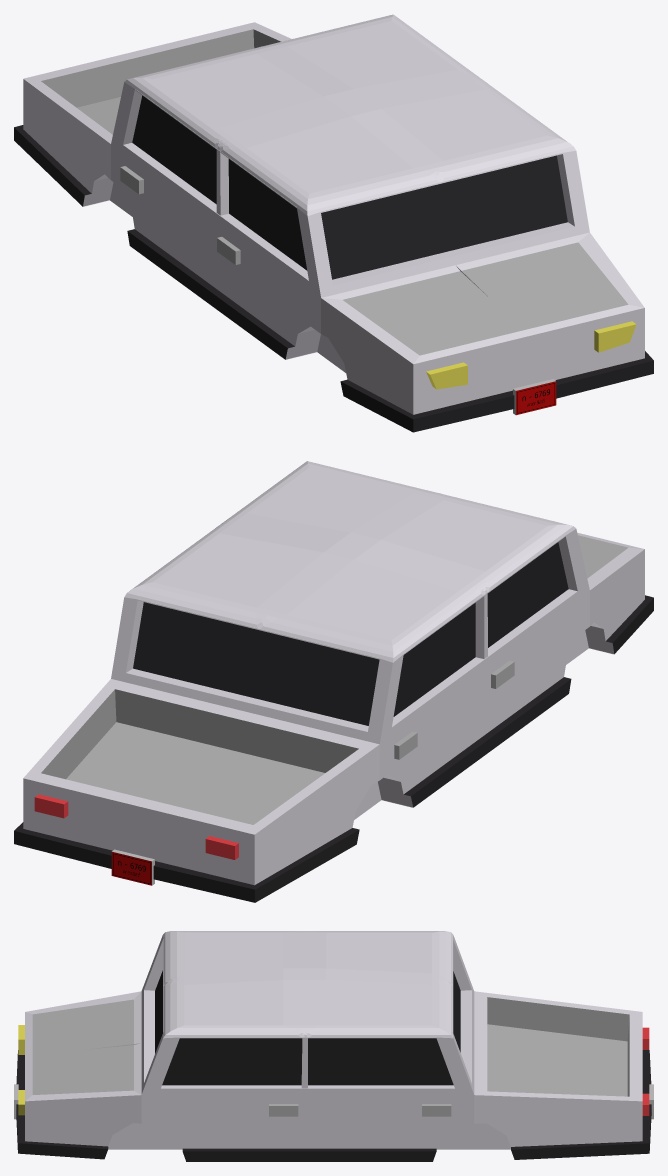
The model's file is Car.glb.
The picture shows the model from 3 angles, top to bottom: view 1: azimuth 30°, elevation 25°; view 2: azimuth 150°, elevation 25°; view 3: azimuth 270°, elevation 25°; orthographic projection. The views are drawn at different scales.
Parts seen in each view (by area): view 1: Cube, Cube.001; view 2: Cube, Cube.002; view 3: Cube.
Part boxes in pixels (x1,y1,x2,y2): Cube: [14, 14, 653, 432]; Cube.001: [513, 379, 556, 415]; Cube: [14, 461, 653, 902]; Cube.002: [111, 849, 154, 885]; Cube: [16, 931, 651, 1161].
Bounding box in the file's own units: 3.67 × 2.14 × 9.07.
6 materials, 1 textured.
